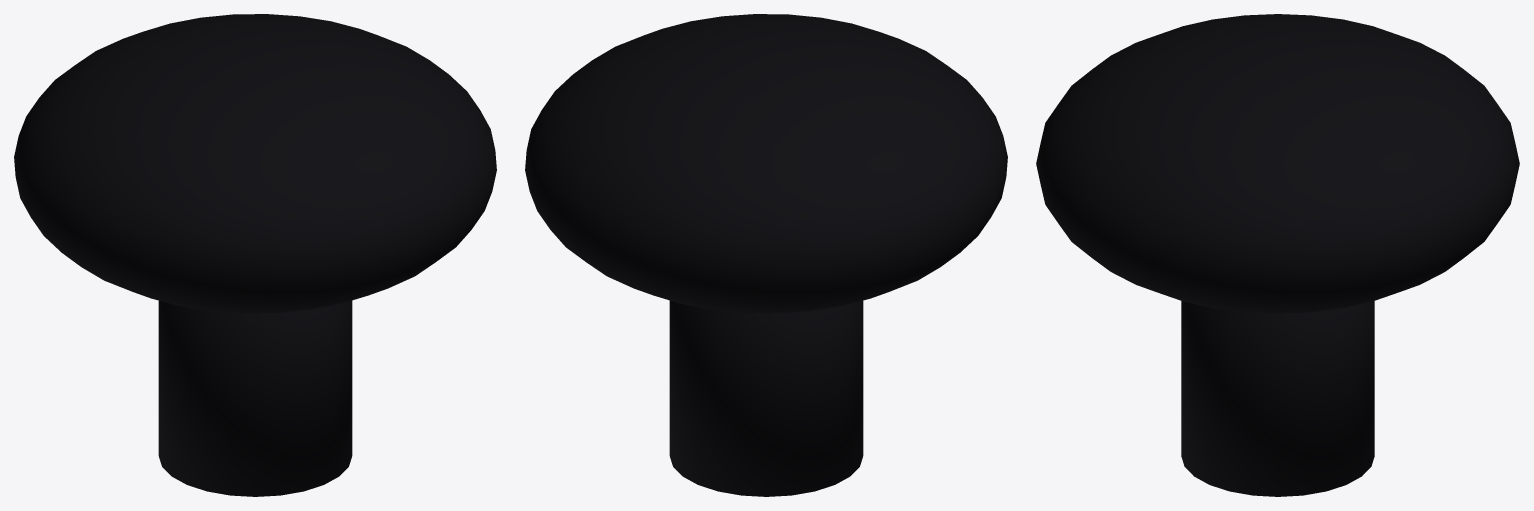
File: TutPad_Stick.obj
3 views of the same model, side by side, from view 1: azimuth 30°, elevation 25°; view 2: azimuth 150°, elevation 25°; view 3: azimuth 270°, elevation 25° (orthographic).
Parts seen in each view (by area): view 1: TutPad_Stick; view 2: TutPad_Stick; view 3: TutPad_Stick.
Part boxes in pixels (x1=…): TutPad_Stick: x1=14, y1=14, x2=496, y2=496; TutPad_Stick: x1=525, y1=14, x2=1007, y2=496; TutPad_Stick: x1=1036, y1=14, x2=1519, y2=496.
Size of the model in its own units: 0.15 by 0.1375 by 0.15.
1 material, 1 textured.
